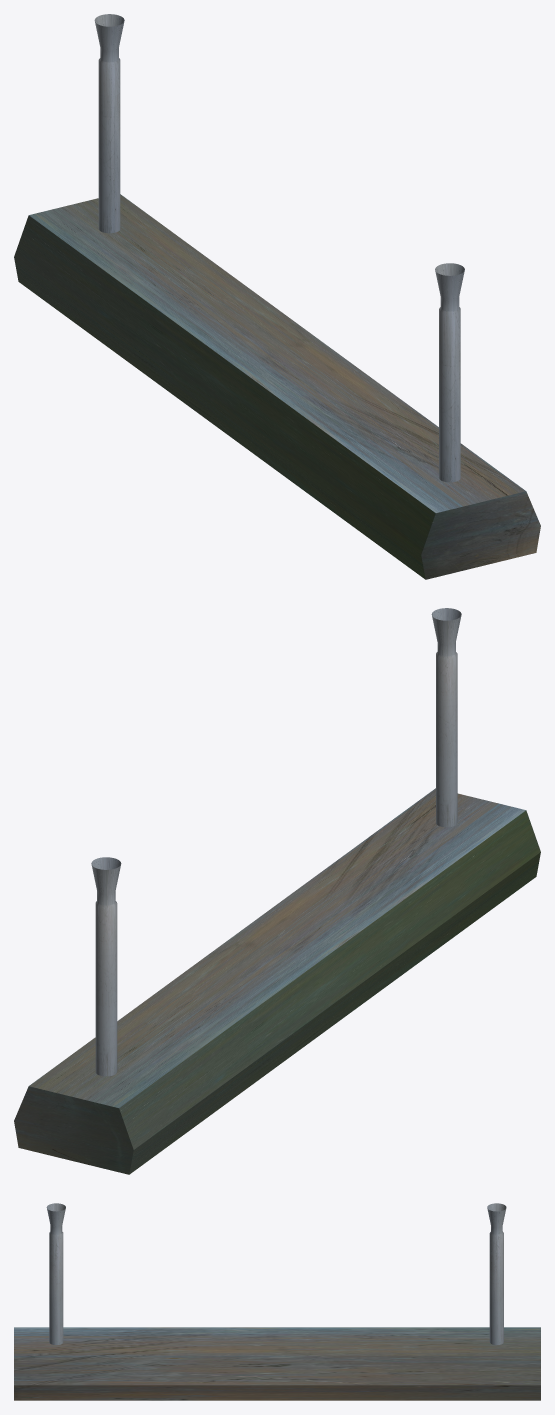
The model's file is Autopsy2CielingLight.glb.
3 renders of one model, top to bottom at view 1: azimuth 30°, elevation 25°; view 2: azimuth 150°, elevation 25°; view 3: azimuth 270°, elevation 25°, orthographic. The views are drawn at different scales.
Parts seen in each view (by area): view 1: Cube, Cylinder.006, Cylinder.004; view 2: Cube, Cylinder.006, Cylinder.004; view 3: Cube, Cylinder.004, Cylinder.006.
Part boxes in pixels (x1,y1,x2,y2): Cube: [14, 194, 540, 579]; Cylinder.006: [94, 14, 124, 233]; Cylinder.004: [435, 263, 464, 482]; Cube: [14, 788, 540, 1174]; Cylinder.006: [91, 857, 121, 1076]; Cylinder.004: [431, 608, 461, 827]; Cube: [14, 1327, 540, 1400]; Cylinder.004: [46, 1203, 65, 1345]; Cylinder.006: [487, 1203, 506, 1345].
Size of the model in its own units: 1.92 by 4.18 by 11.32.
3 materials, 2 textured.
